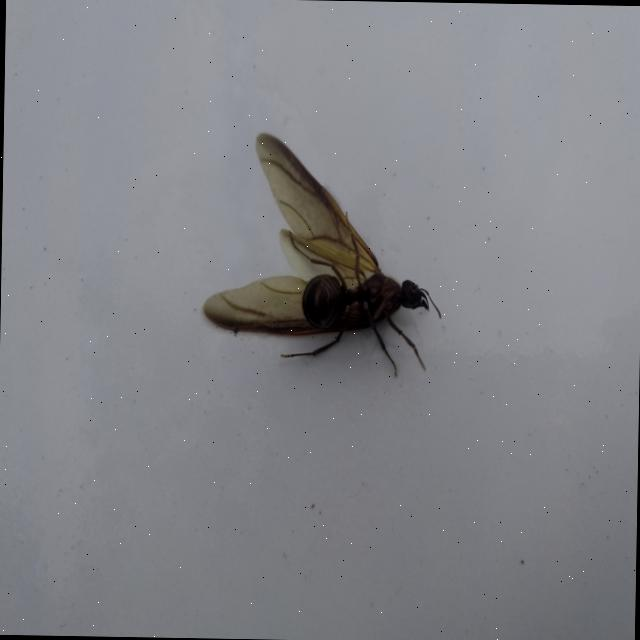Dead-Female-Alate: (202, 117, 445, 380)
